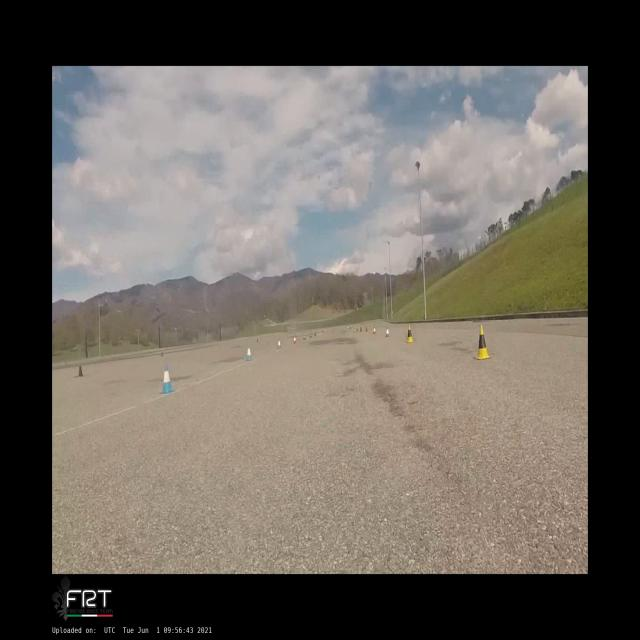blue_cone: (160, 363, 176, 394), (245, 348, 252, 361), (277, 338, 282, 349), (385, 326, 390, 337)
large_orange_cone: (303, 332, 306, 341), (373, 326, 376, 334), (309, 331, 312, 338)
unknown_cone: (78, 364, 84, 376), (293, 335, 297, 344), (364, 325, 368, 332), (256, 338, 259, 344), (360, 326, 362, 332), (356, 325, 358, 331), (161, 352, 163, 357), (314, 332, 316, 336)
yellow_cone: (473, 324, 492, 360), (405, 326, 414, 343)
